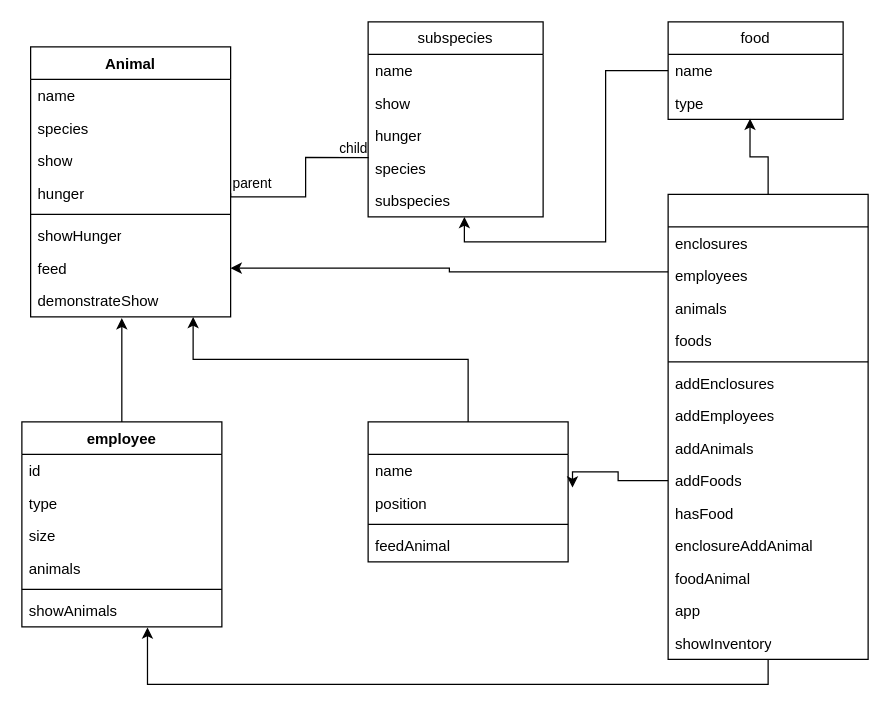
Image size: 890x716. Some labels were removed from this diagram. Each missing label, with the box of its shape:
enclosure: (367, 421, 568, 562)
zoo: (667, 193, 868, 659)
